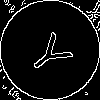Y: (25, 25, 81, 80)
